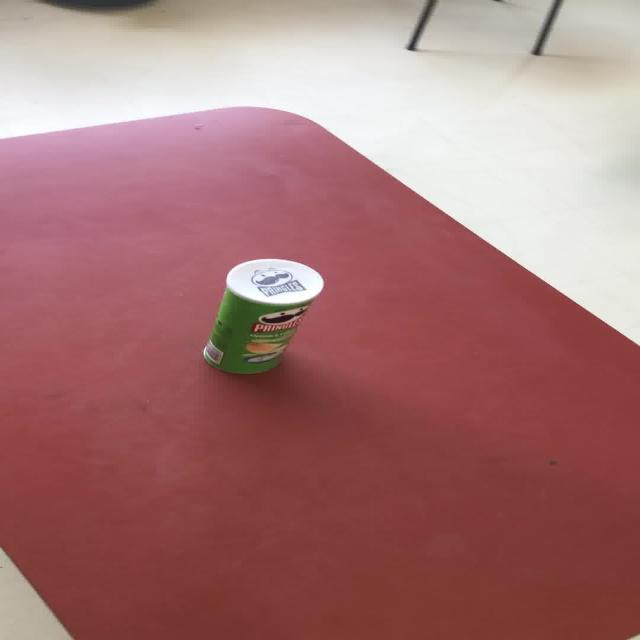pringles: (200, 257, 324, 374)
